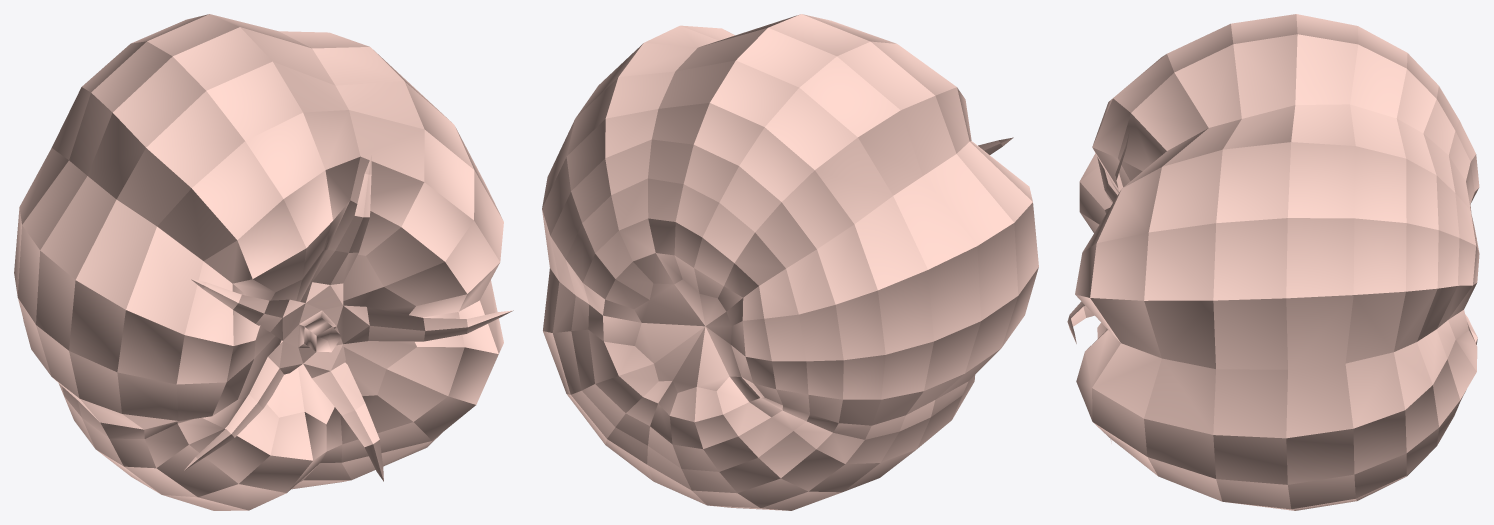
The model's file is MeshTomatoA2Mesh_0.obj.
3 renders of one model, left to right at view 1: azimuth 30°, elevation 25°; view 2: azimuth 150°, elevation 25°; view 3: azimuth 270°, elevation 25°, orthographic. The views are drawn at different scales.
Visible parts, largest first — view 1: TomatoA2Mesh; view 2: TomatoA2Mesh; view 3: TomatoA2Mesh.
Part boxes in pixels (bbox=[...]): TomatoA2Mesh: bbox=[14, 14, 513, 510]; TomatoA2Mesh: bbox=[542, 14, 1038, 510]; TomatoA2Mesh: bbox=[1067, 14, 1479, 510].
Bounding box in the file's own units: 0.1329 × 0.142 × 0.1174.
